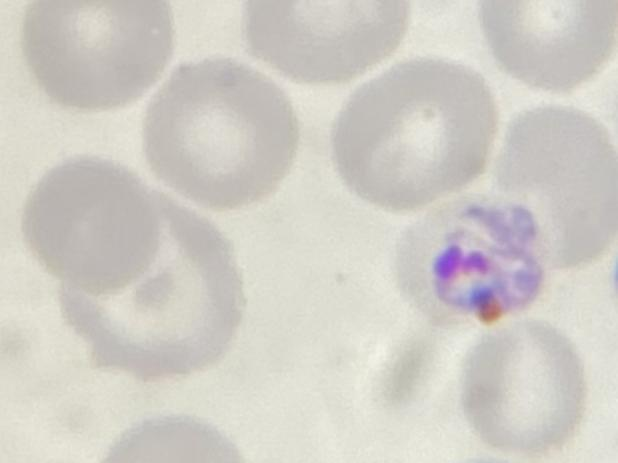Infected: (399, 188, 565, 333)
Uninfected: (62, 199, 250, 371), (325, 58, 501, 215), (141, 58, 297, 217), (499, 99, 618, 271), (22, 155, 158, 292), (21, 0, 174, 120), (459, 318, 581, 454), (239, 0, 409, 87), (478, 0, 618, 96)
